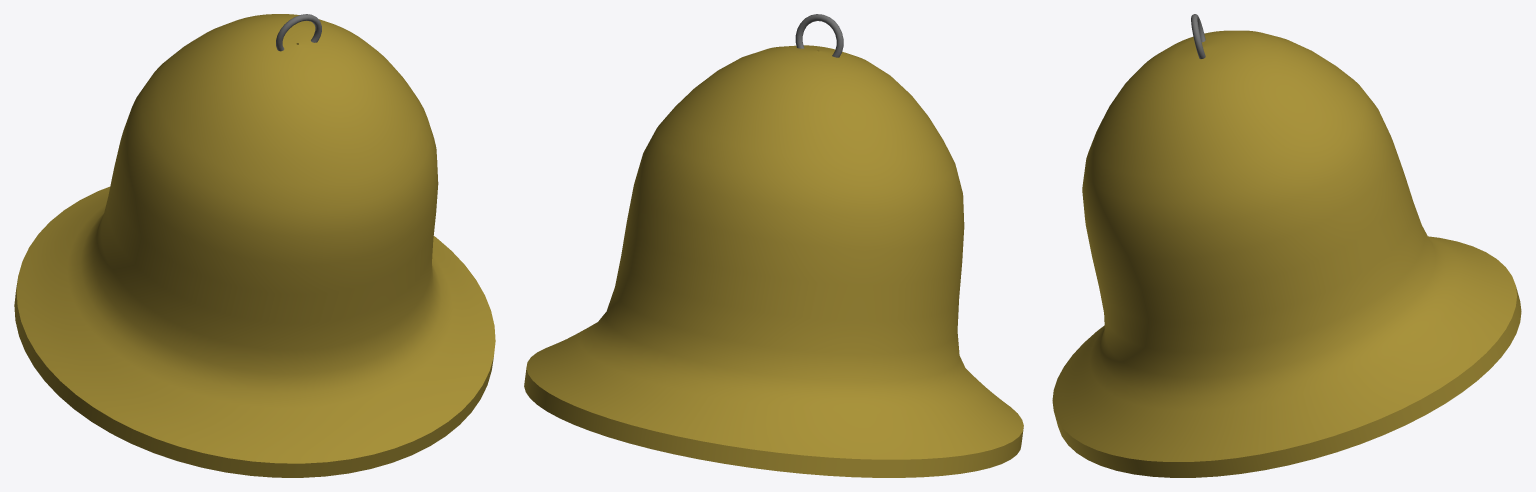
Rendered from bell.FBX.
3 views of the same model, side by side, from view 1: azimuth 30°, elevation 25°; view 2: azimuth 150°, elevation 25°; view 3: azimuth 270°, elevation 25° (orthographic). The views are drawn at different scales.
Parts seen in each view (by area): view 1: Line01, Torus01; view 2: Line01, Torus01; view 3: Line01.
Boxes of the visible parts, bbox=[...] form: Line01: bbox=[14, 14, 495, 477]; Torus01: bbox=[276, 14, 321, 51]; Line01: bbox=[524, 45, 1023, 477]; Torus01: bbox=[795, 14, 843, 57]; Line01: bbox=[1052, 30, 1521, 477].
Size of the model in its own units: 9.38 by 8.65 by 9.19.
